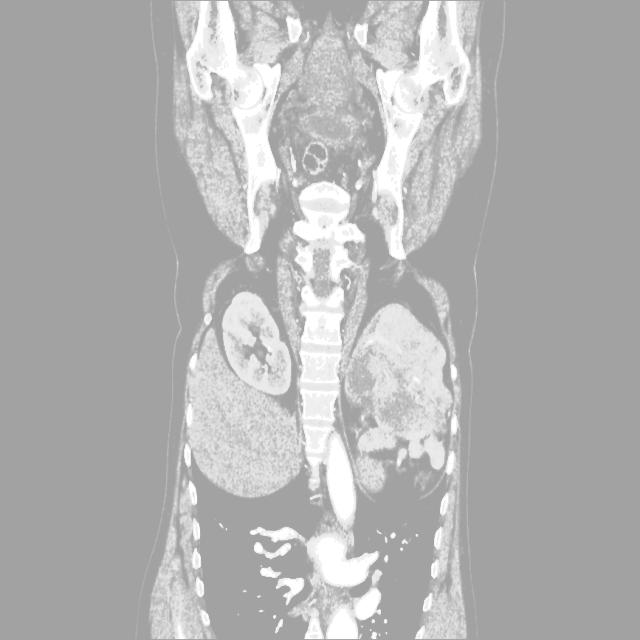TUMOR: (145, 261, 483, 463)
